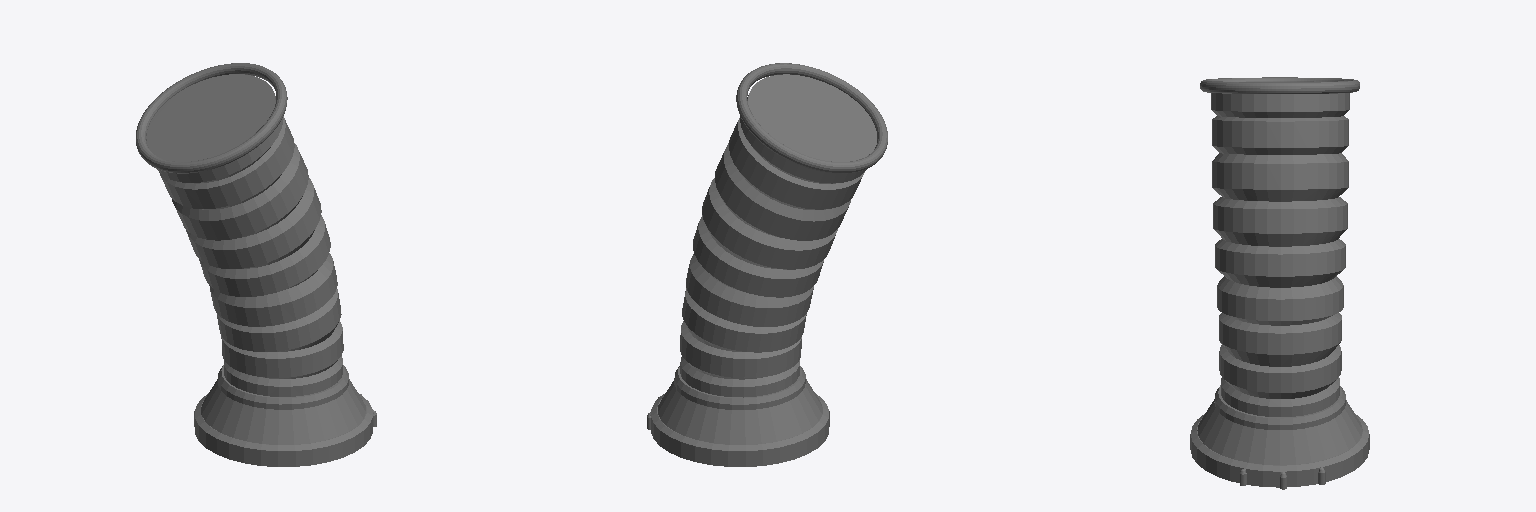
Rendered from PataDelanteraDer.obj.
3 renders of one model, left to right at view 1: azimuth 30°, elevation 25°; view 2: azimuth 150°, elevation 25°; view 3: azimuth 270°, elevation 25°, orthographic.
Parts seen in each view (by area): view 1: C_rculo, C_rculo_009_C_rculo_010, C_rculo_010_C_rculo_011, C_rculo_003, C_rculo_008_C_rculo_009; view 2: C_rculo, C_rculo_009_C_rculo_010, C_rculo_010_C_rculo_011, C_rculo_003, C_rculo_008_C_rculo_009; view 3: C_rculo, C_rculo_009_C_rculo_010, C_rculo_010_C_rculo_011, C_rculo_003, C_rculo_008_C_rculo_009.
Boxes of the visible parts, box(x1,y1,x2,y2) form: C_rculo: box(146, 74, 343, 396); C_rculo_009_C_rculo_010: box(201, 379, 365, 444); C_rculo_010_C_rculo_011: box(194, 393, 372, 466); C_rculo_003: box(136, 63, 287, 173); C_rculo_008_C_rculo_009: box(218, 365, 348, 409); C_rculo: box(680, 74, 876, 397); C_rculo_009_C_rculo_010: box(658, 379, 822, 444); C_rculo_010_C_rculo_011: box(651, 393, 829, 466); C_rculo_003: box(736, 63, 887, 173); C_rculo_008_C_rculo_009: box(674, 366, 805, 409); C_rculo: box(1211, 93, 1349, 416); C_rculo_009_C_rculo_010: box(1197, 399, 1362, 464); C_rculo_010_C_rculo_011: box(1190, 414, 1369, 487); C_rculo_003: box(1200, 77, 1359, 93); C_rculo_008_C_rculo_009: box(1215, 385, 1345, 429).
Size of the model in its own units: 1.45 by 2.29 by 1.03.